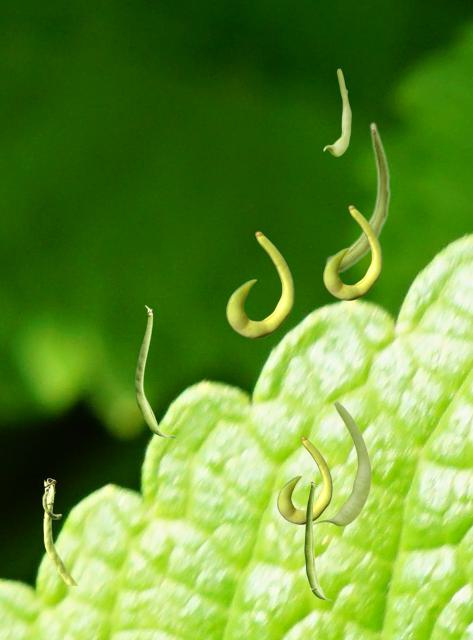french_bean: (325, 121, 390, 272), (313, 399, 371, 525), (226, 231, 293, 337), (323, 205, 381, 299), (135, 305, 175, 437), (277, 436, 331, 523), (42, 478, 76, 584), (304, 480, 331, 599), (323, 68, 350, 155)
